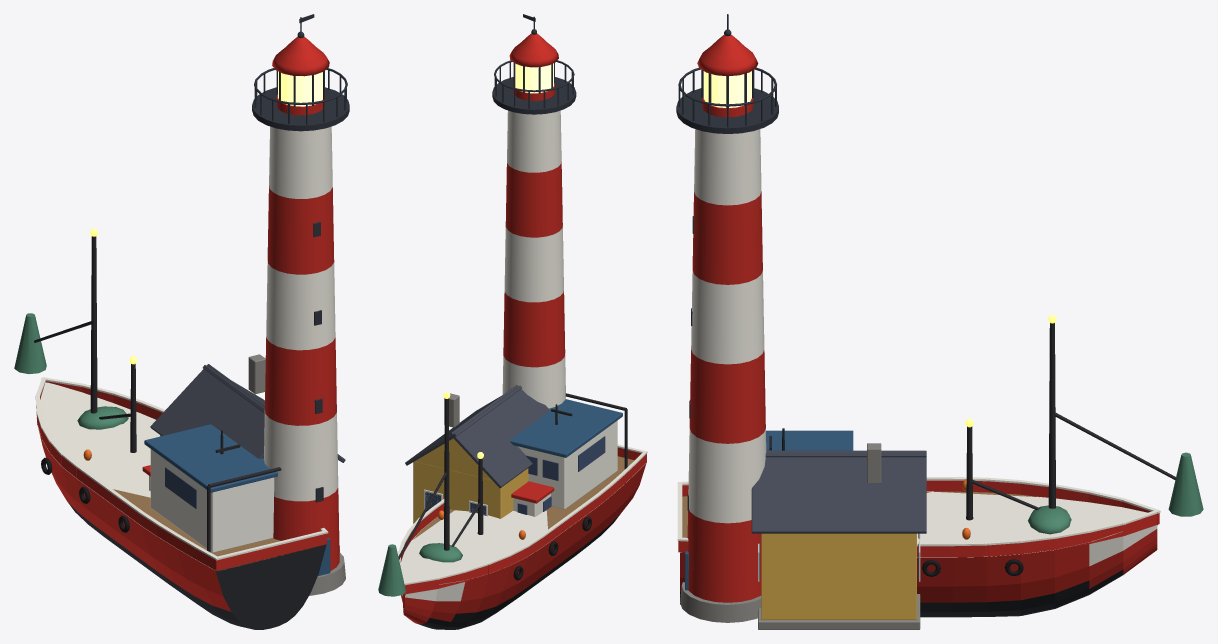
The model's file is harbor.glb.
3 views of the same model, side by side, from view 1: azimuth 30°, elevation 25°; view 2: azimuth 150°, elevation 25°; view 3: azimuth 270°, elevation 25° (orthographic). The views are drawn at different scales.
Parts seen in each view (by area): view 1: Trawler, Lighthouse, Skiff; view 2: Lighthouse, Trawler, Skiff; view 3: Lighthouse, Trawler, Skiff.
Part boxes in pixels (bbox=[...]): Trawler: bbox=[14, 228, 328, 629]; Lighthouse: bbox=[150, 14, 349, 595]; Skiff: bbox=[99, 356, 150, 490]; Lighthouse: bbox=[405, 14, 576, 523]; Trawler: bbox=[378, 392, 647, 629]; Skiff: bbox=[451, 452, 554, 546]; Lighthouse: bbox=[676, 14, 926, 629]; Trawler: bbox=[677, 315, 1203, 617]; Skiff: bbox=[965, 418, 1040, 520].
Size of the model in its own units: 6.77 by 21.6 by 16.56.
